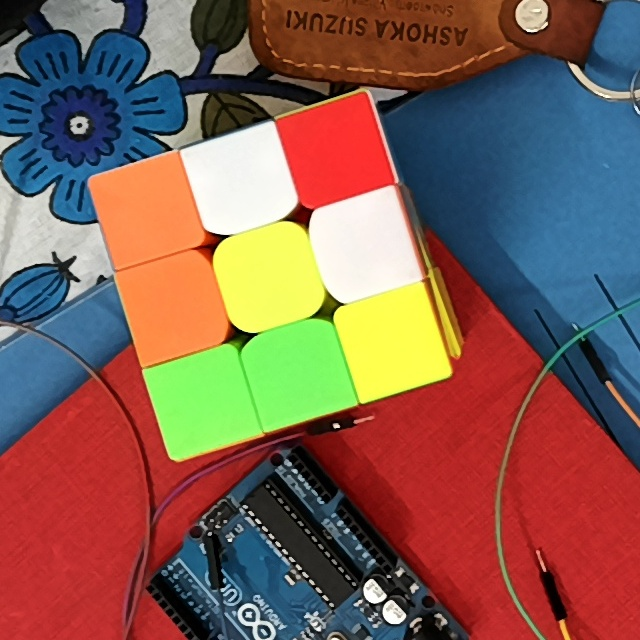tile: (137, 271, 211, 345), (108, 175, 181, 248), (298, 117, 372, 189), (232, 242, 306, 313), (356, 305, 427, 379), (203, 146, 275, 217), (167, 365, 238, 437), (262, 338, 333, 408), (328, 212, 399, 281)
